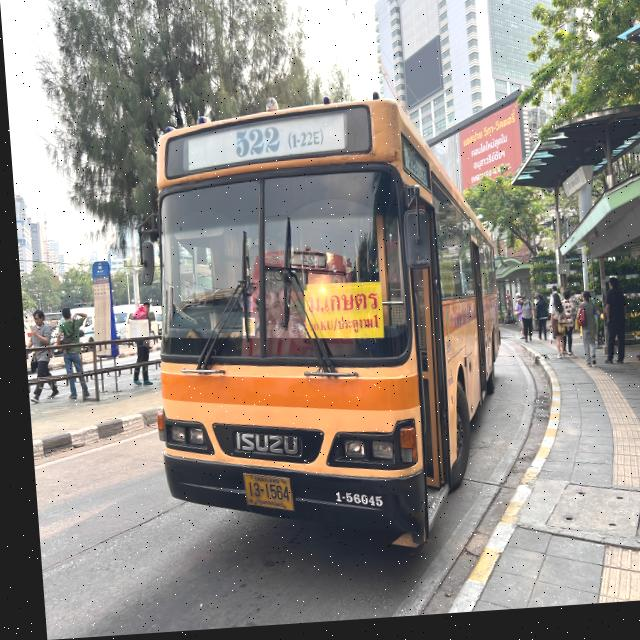BMTA-bus: (131, 80, 511, 579)
Bus-Line-Number: (226, 120, 327, 162)
Destination-Sign-Extra-Bus-Expressway: (297, 283, 380, 347)
